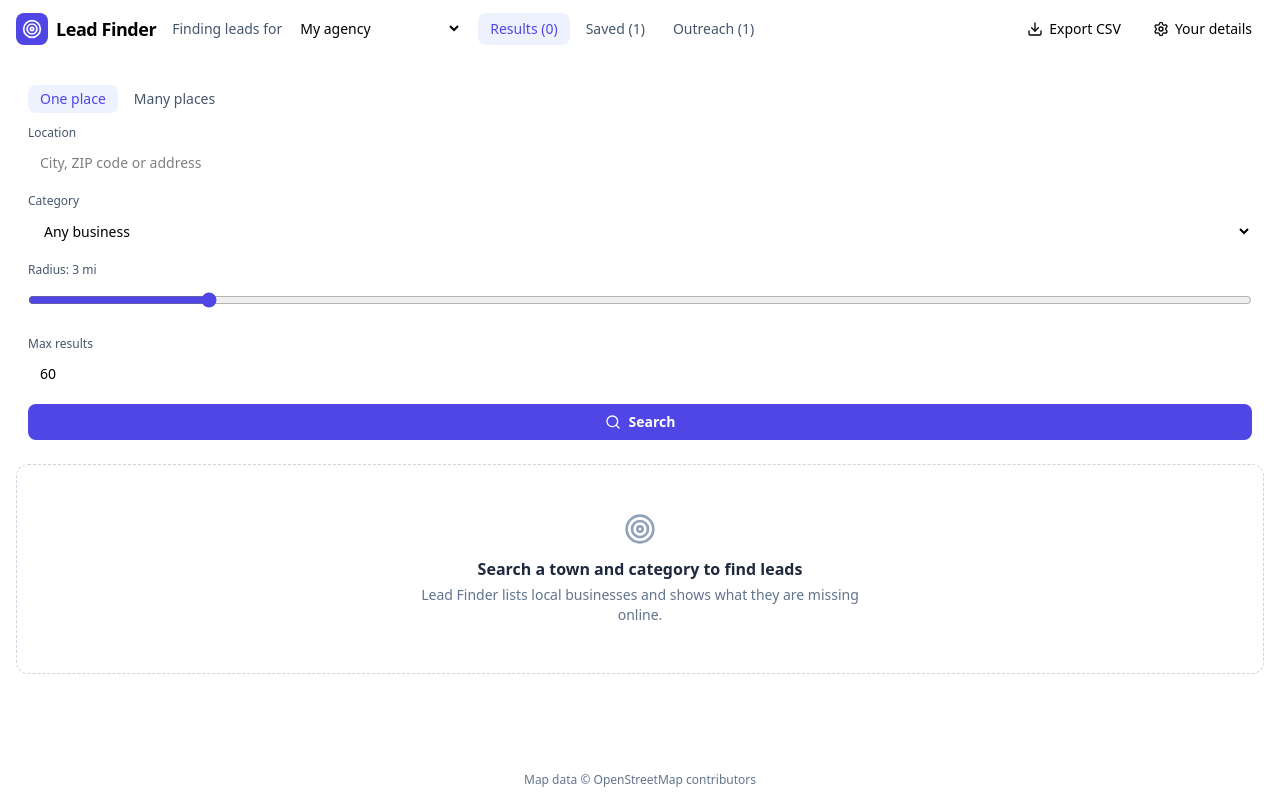
Test: run while the app is closed › turns on with your copy, takes the server sends and statuses, runs now and turns off
Click the button "Outreach (1)". click: (714,28)
box: [661, 12, 766, 44]
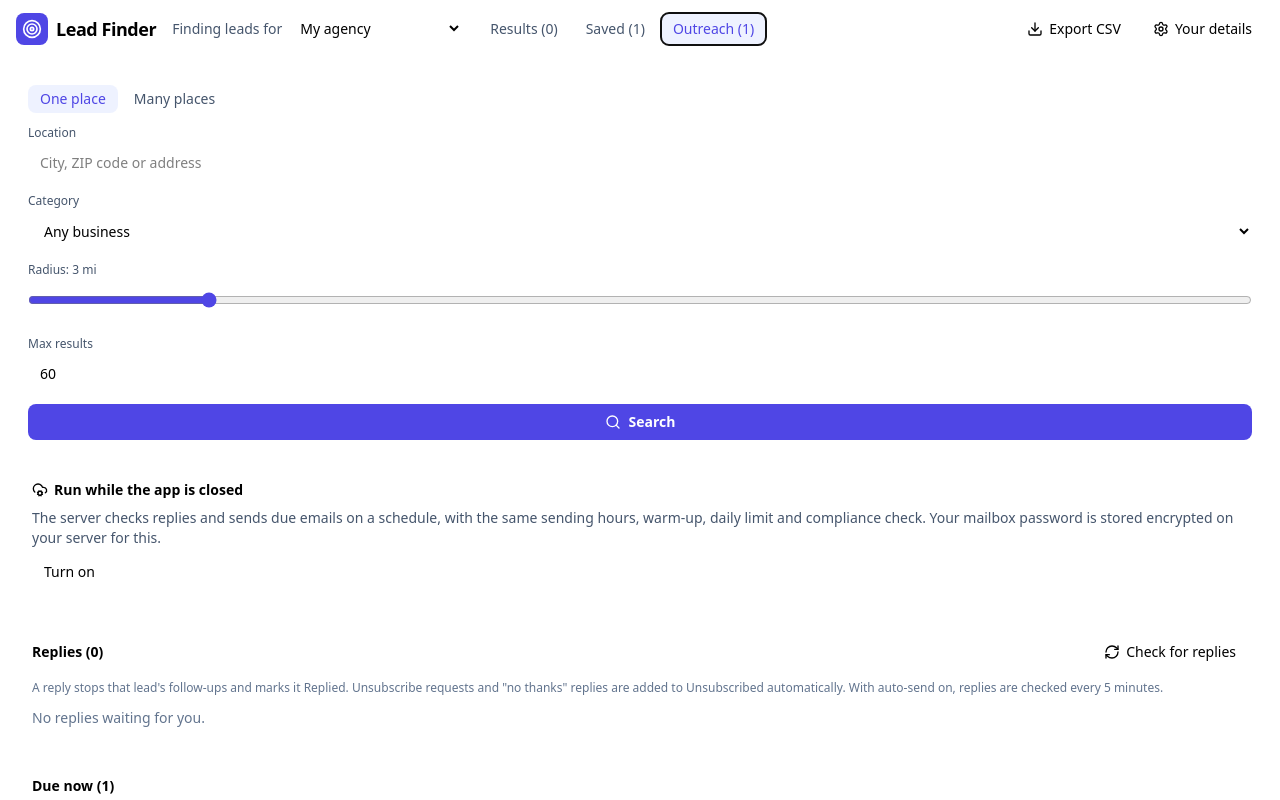
Click the button "Turn on". click: (69,572)
box: [32, 556, 107, 588]
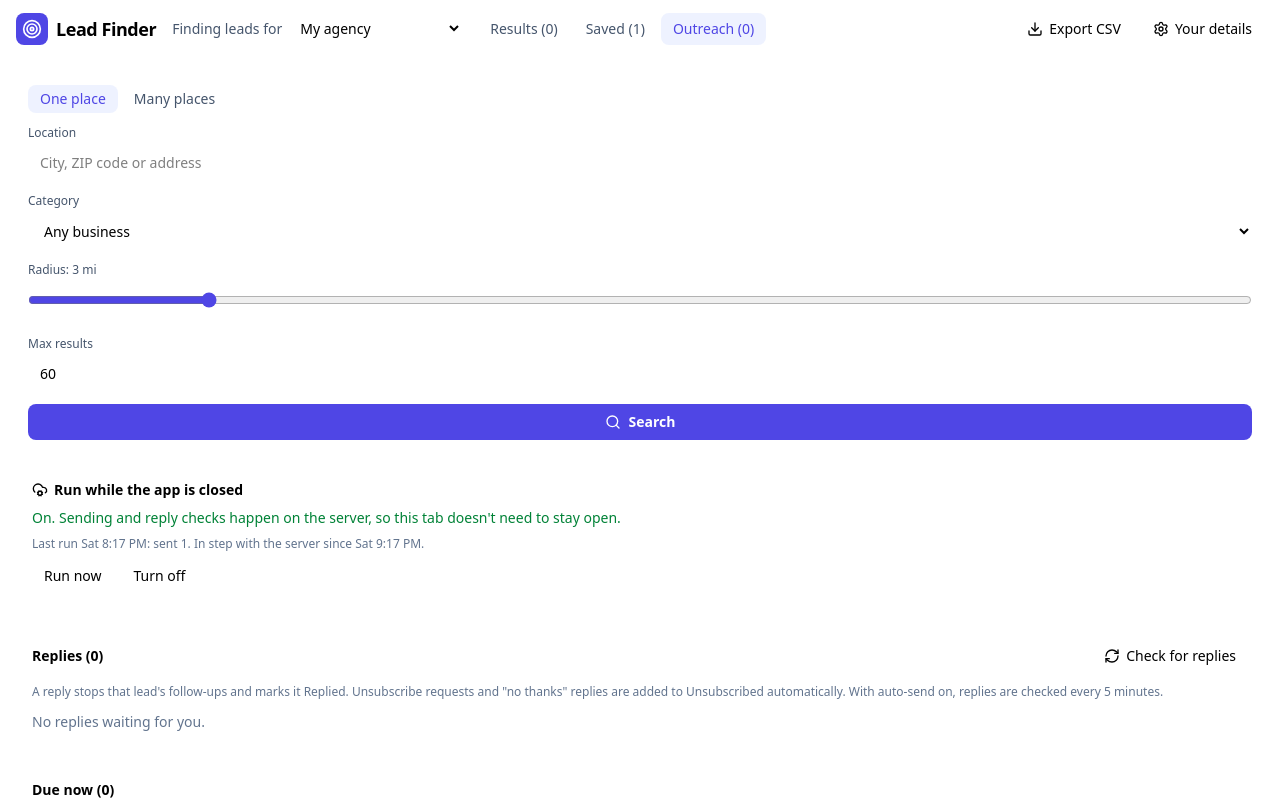
expect the text "On." is shown: met, box [32, 508, 621, 527]
Click the button "Run now". click: (73,576)
box: [32, 560, 114, 592]
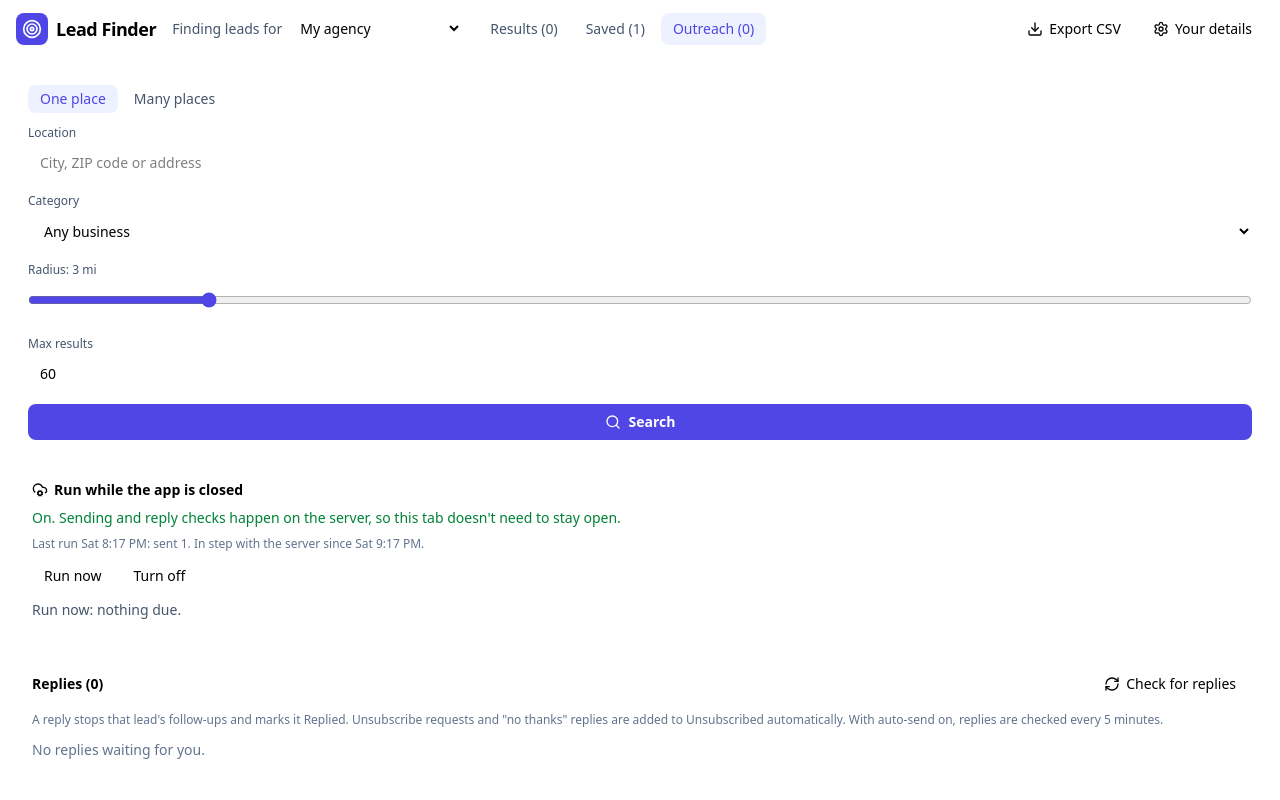
expect the text "Run now: nothing due." is shown: met, box [32, 600, 181, 619]
Click the button "Turn off". click: (159,576)
box: [122, 560, 197, 592]
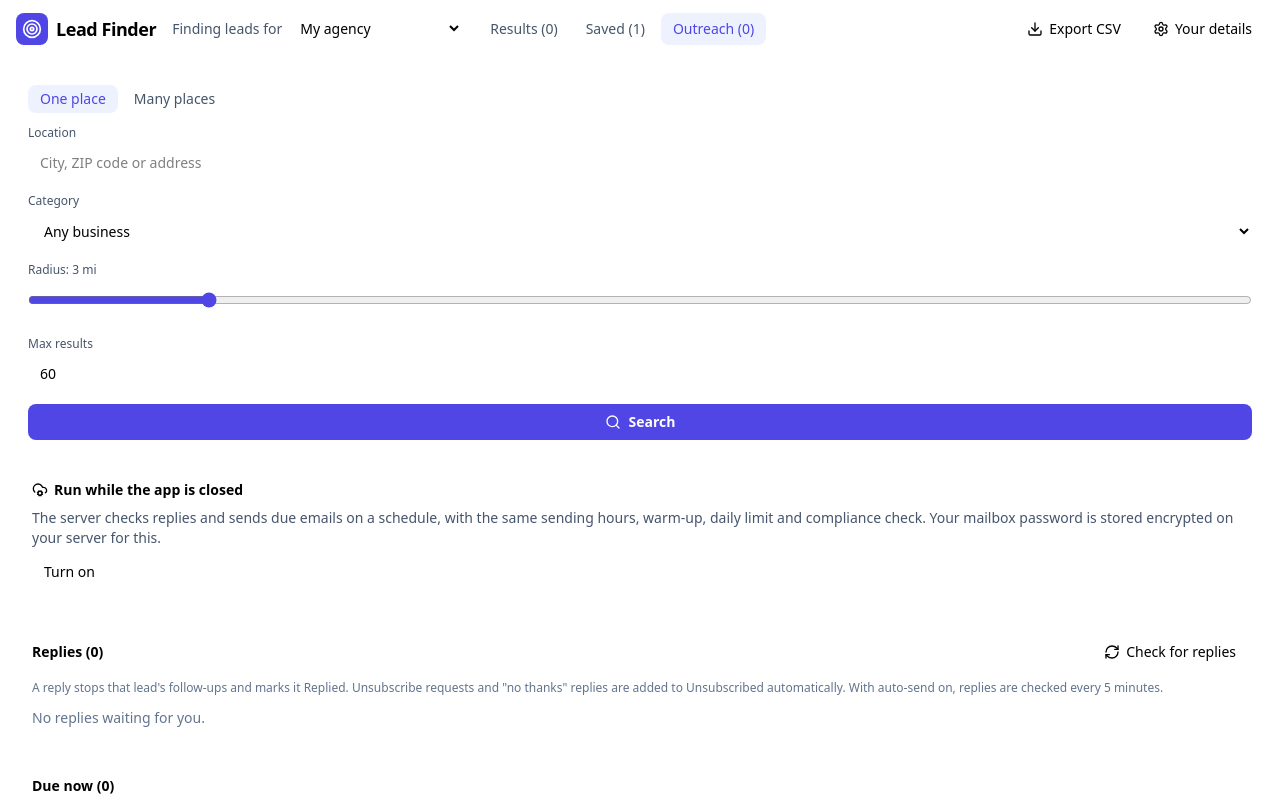
expect the button "Turn on" is shown: met, box [32, 556, 107, 588]
